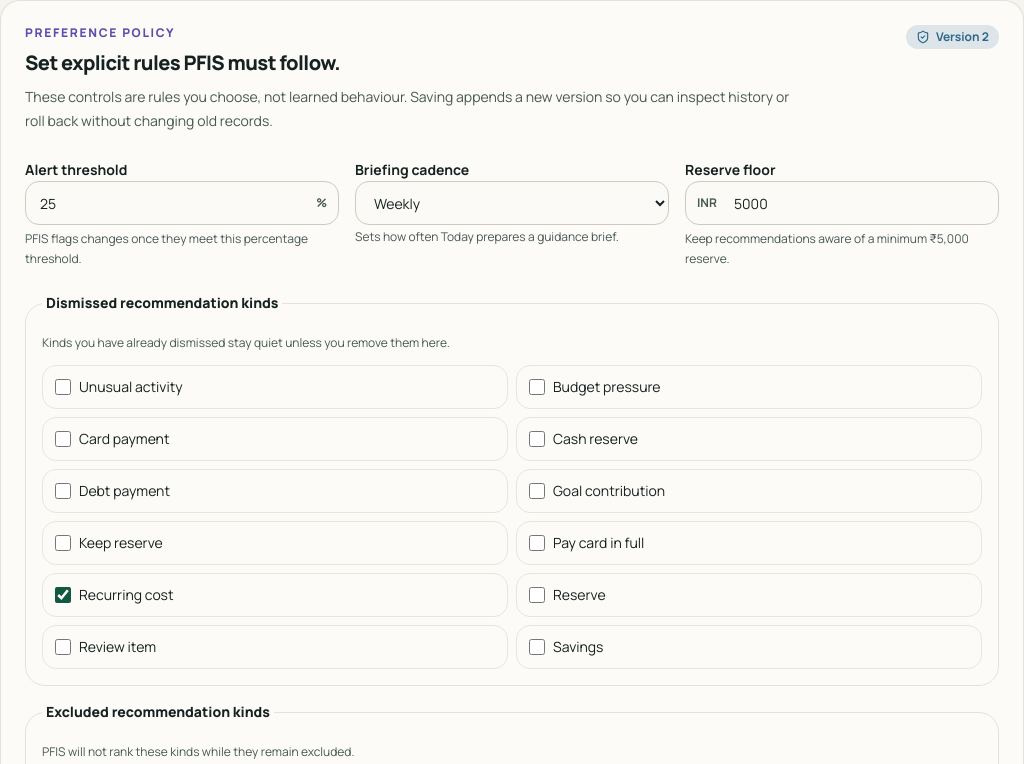
PreferencePolicySettings › keeps schema-bound validation inline before saving
This screenshot has width=1024, height=764.
Replace the text in the number field labelled "Alert threshold" with "101": (182, 203) [25,181,339,225]
(page scrolled)
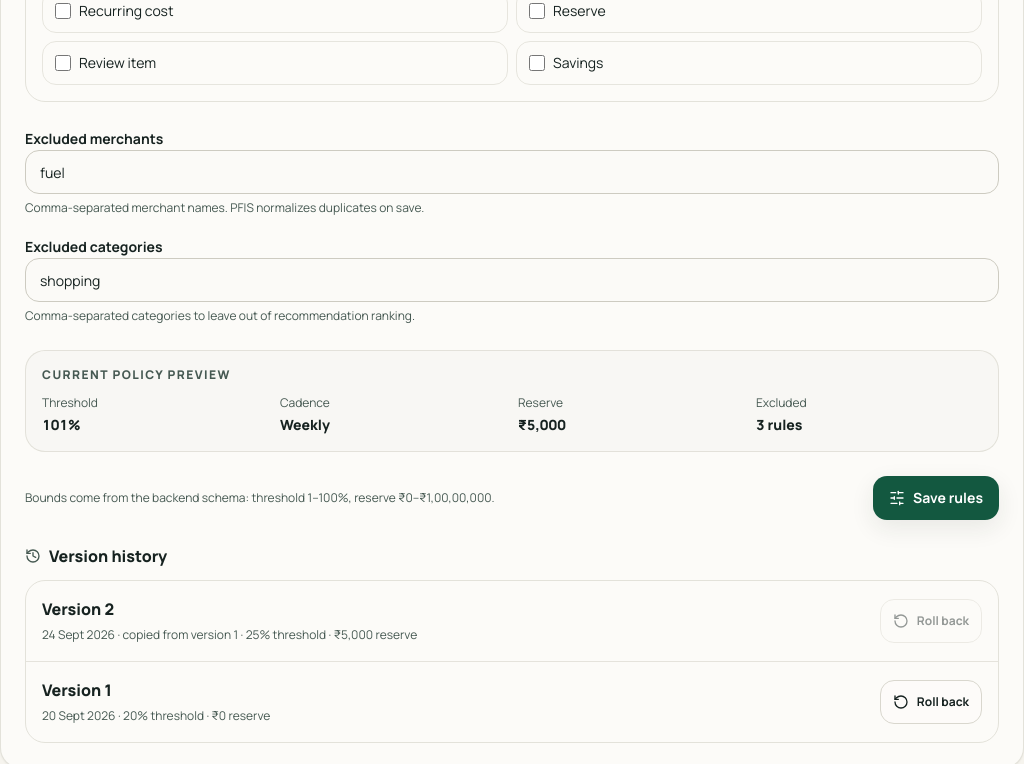
Click the button "Save rules": (936, 498) [873,476,999,520]
(page scrolled)
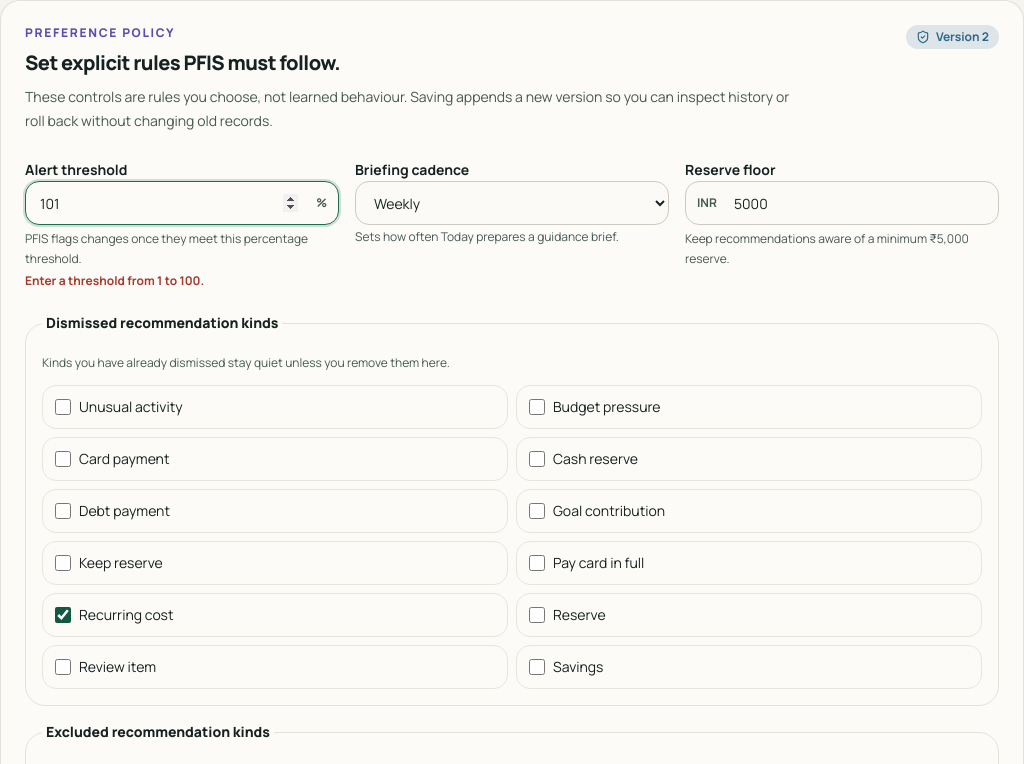
Expected: the text "Enter a threshold from 1 to 100." is shown, [25,272,204,289]
